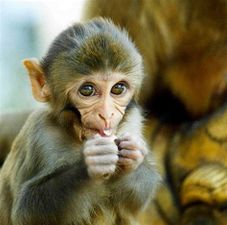monkey: (25, 25, 208, 207)
